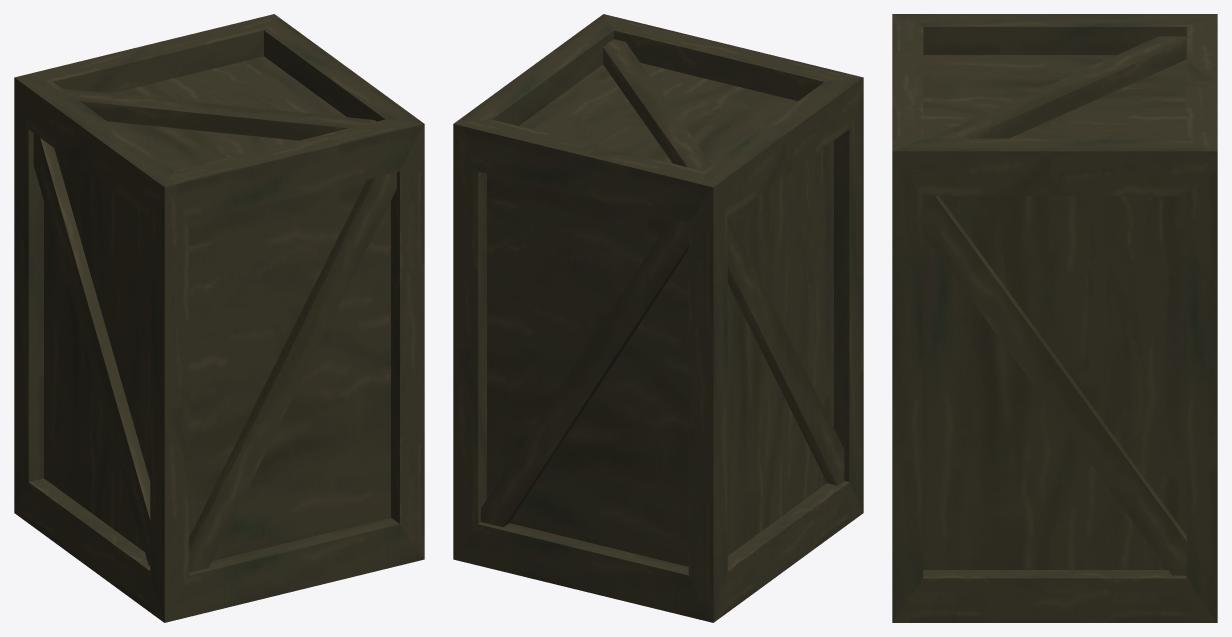
Rendered from ScatterBoxC02.fbx.
The picture shows the model from 3 angles, left to right: view 1: azimuth 30°, elevation 25°; view 2: azimuth 150°, elevation 25°; view 3: azimuth 270°, elevation 25°; orthographic projection. The views are drawn at different scales.
Visible parts, largest first — view 1: ScatterBoxC02; view 2: ScatterBoxC02; view 3: ScatterBoxC02.
Boxes of the visible parts, bbox=[...] form: ScatterBoxC02: bbox=[14, 14, 424, 622]; ScatterBoxC02: bbox=[453, 14, 863, 622]; ScatterBoxC02: bbox=[892, 14, 1217, 622].
Bounding box in the file's own units: 72 × 115 × 72.
